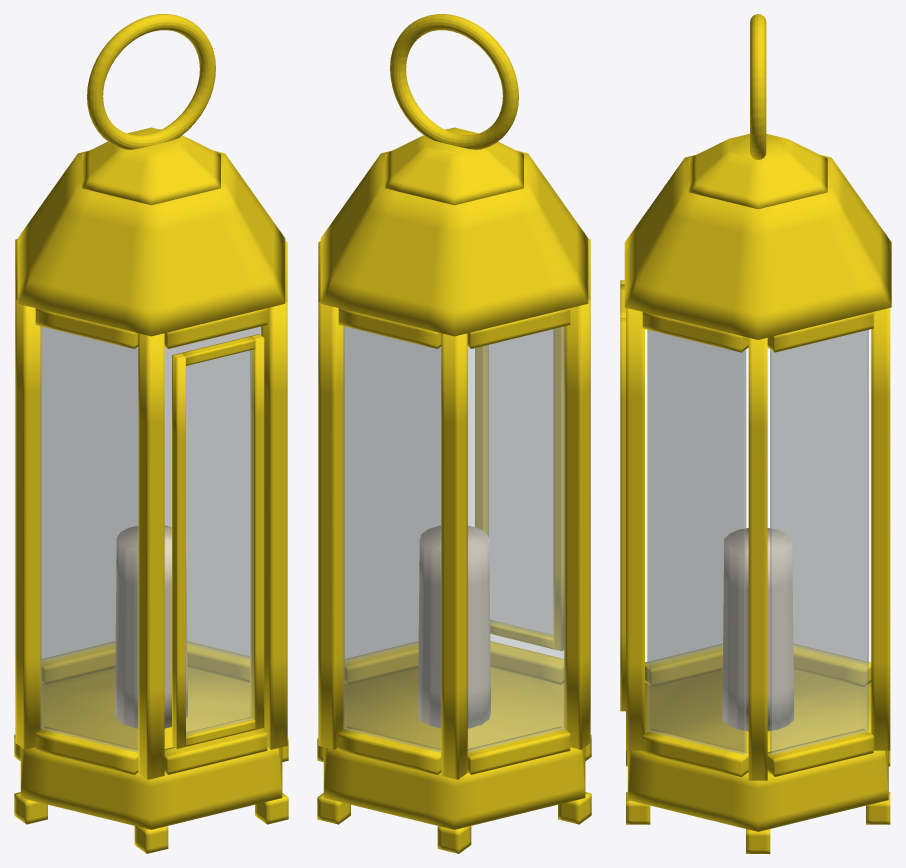
File: lantern.glb
3 renders of one model, left to right at view 1: azimuth 30°, elevation 25°; view 2: azimuth 150°, elevation 25°; view 3: azimuth 270°, elevation 25°, orthographic.
Visible parts, largest first — view 1: Glass, Frame, Roof, Door_Glass, Base, Door, Candle, Handle; view 2: Glass, Frame, Roof, Base, Door_Glass, Candle, Door, Handle; view 3: Glass, Roof, Frame, Base, Candle, Door, Handle.
Part boxes in pixels (bbox=[...]): Glass: bbox=[40, 326, 261, 752]; Frame: bbox=[15, 239, 287, 779]; Roof: bbox=[17, 127, 285, 336]; Door_Glass: bbox=[186, 349, 253, 735]; Base: bbox=[14, 668, 288, 853]; Door: bbox=[172, 334, 264, 748]; Candle: bbox=[115, 525, 187, 728]; Handle: bbox=[87, 14, 215, 149]; Glass: bbox=[343, 326, 565, 752]; Frame: bbox=[318, 239, 590, 779]; Roof: bbox=[320, 127, 588, 336]; Base: bbox=[317, 668, 591, 853]; Door_Glass: bbox=[485, 329, 552, 637]; Candle: bbox=[418, 525, 490, 728]; Door: bbox=[475, 326, 564, 651]; Handle: bbox=[390, 14, 518, 149]; Glass: bbox=[647, 329, 868, 754]; Roof: bbox=[624, 133, 891, 339]; Frame: bbox=[626, 308, 890, 780]; Base: bbox=[626, 670, 890, 853]; Candle: bbox=[722, 528, 793, 731]; Door: bbox=[620, 280, 625, 711]; Handle: bbox=[750, 14, 766, 159].
Size of the model in its own units: 0.1517 by 0.418 by 0.1336.
